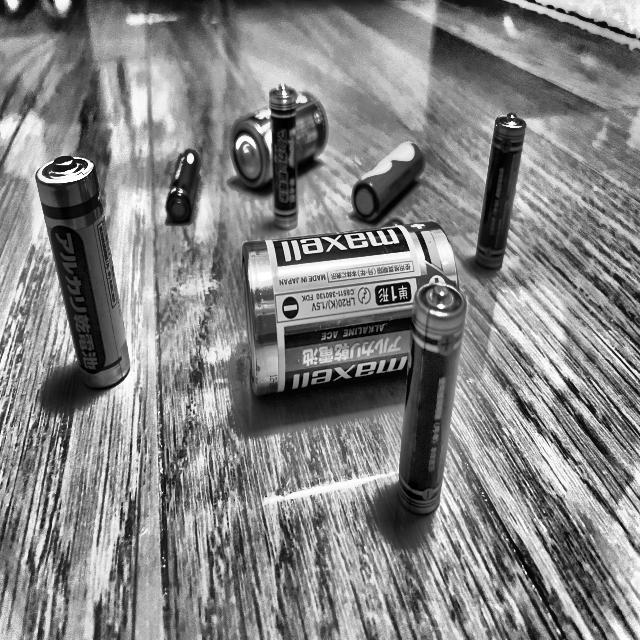drycell: (232, 216, 482, 406), (30, 140, 138, 401), (394, 281, 473, 525), (226, 88, 330, 192), (476, 100, 532, 272), (347, 135, 429, 223), (163, 134, 210, 230)
